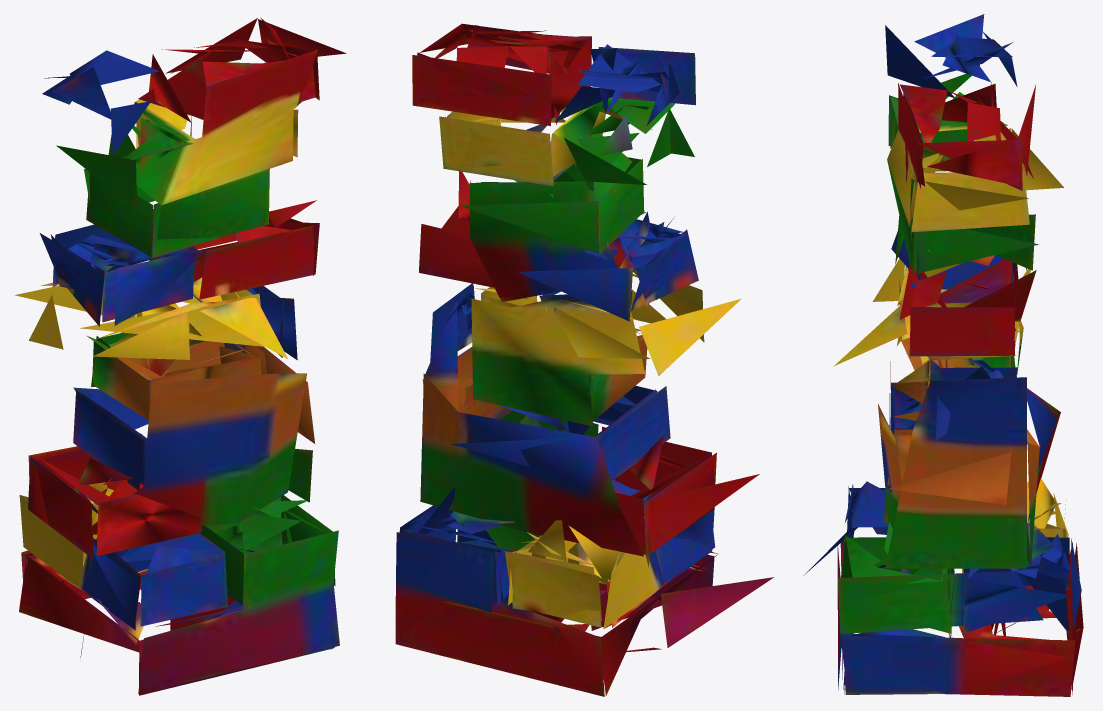
The model's file is kinder_bausteinturm_lo.glb.
3 renders of one model, left to right at view 1: azimuth 30°, elevation 25°; view 2: azimuth 150°, elevation 25°; view 3: azimuth 270°, elevation 25°, orthographic.
Parts seen in each view (by area): view 1: Prop; view 2: Prop; view 3: Prop.
Part boxes in pixels (x1=…): Prop: x1=14, y1=17, x2=346, y2=695; Prop: x1=395, y1=23, x2=774, y2=696; Prop: x1=803, y1=14, x2=1083, y2=696.
Bounding box in the file's own units: 0.5627 × 1.05 × 0.441.
1 material, 1 textured.
